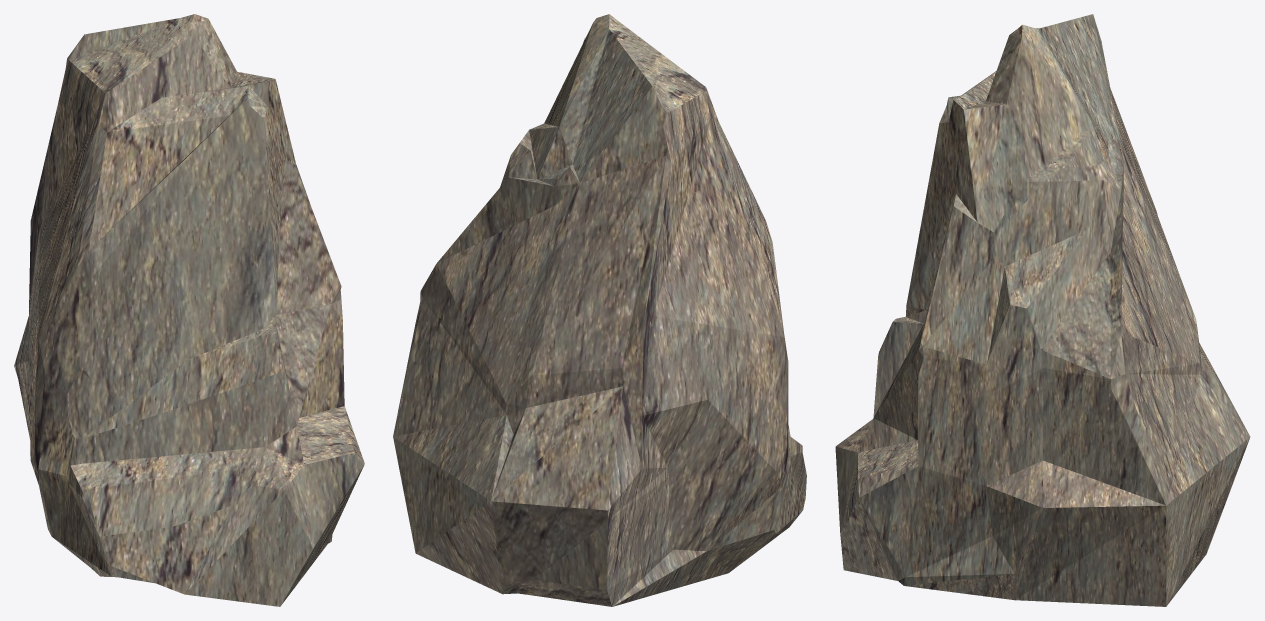
Rendered from Rock03.obj.
3 renders of one model, left to right at view 1: azimuth 30°, elevation 25°; view 2: azimuth 150°, elevation 25°; view 3: azimuth 270°, elevation 25°, orthographic. The views are drawn at different scales.
Visible parts, largest first — view 1: Cube; view 2: Cube; view 3: Cube.
Boxes of the visible parts, <box> form: Cube: <box>14,14,364,606</box>; Cube: <box>393,14,806,606</box>; Cube: <box>835,14,1250,606</box>.
Bounding box in the file's own units: 3.52 × 5.67 × 3.91.
1 material, 1 textured.
